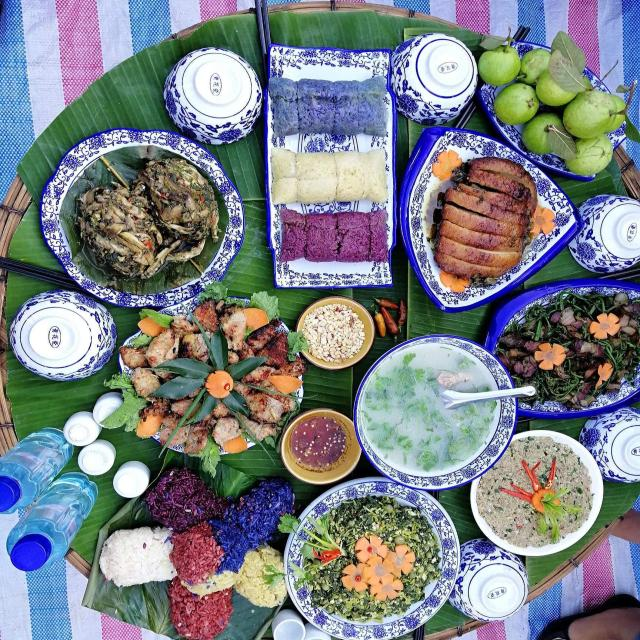chao: (367, 343, 505, 482)
heo nuong: (122, 298, 310, 456)
heo quay: (439, 145, 536, 286)
oi: (478, 27, 630, 172)
xoi: (110, 463, 288, 634), (270, 71, 394, 276)
